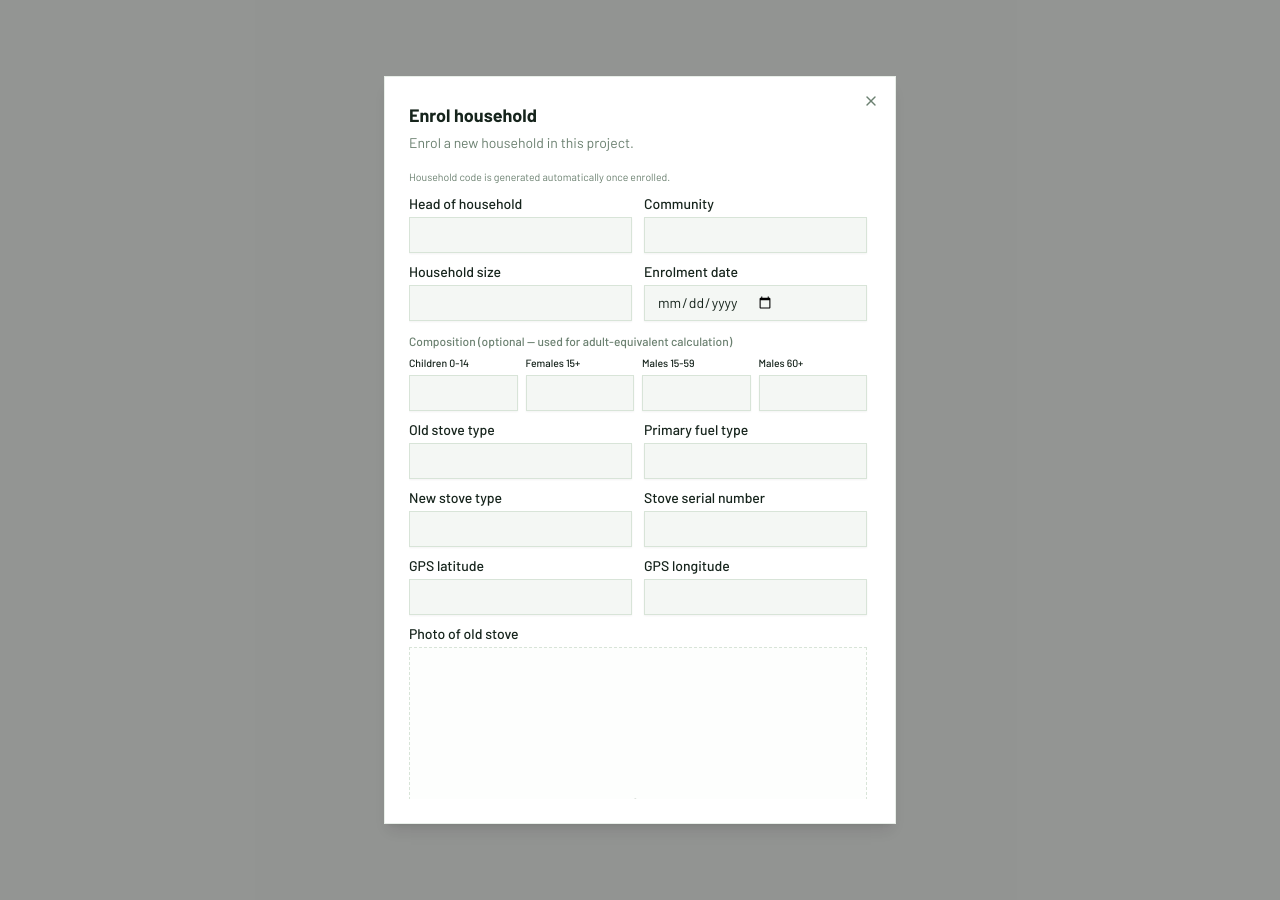
Test: CreateHouseholdDialog › submits with numeric fields converted and empty optional fields omitted
The image size is (1280, 900).
Type "Ojo" into the field labelled "Community" at {"x": 756, "y": 235}, box 644,217 -> 867,253
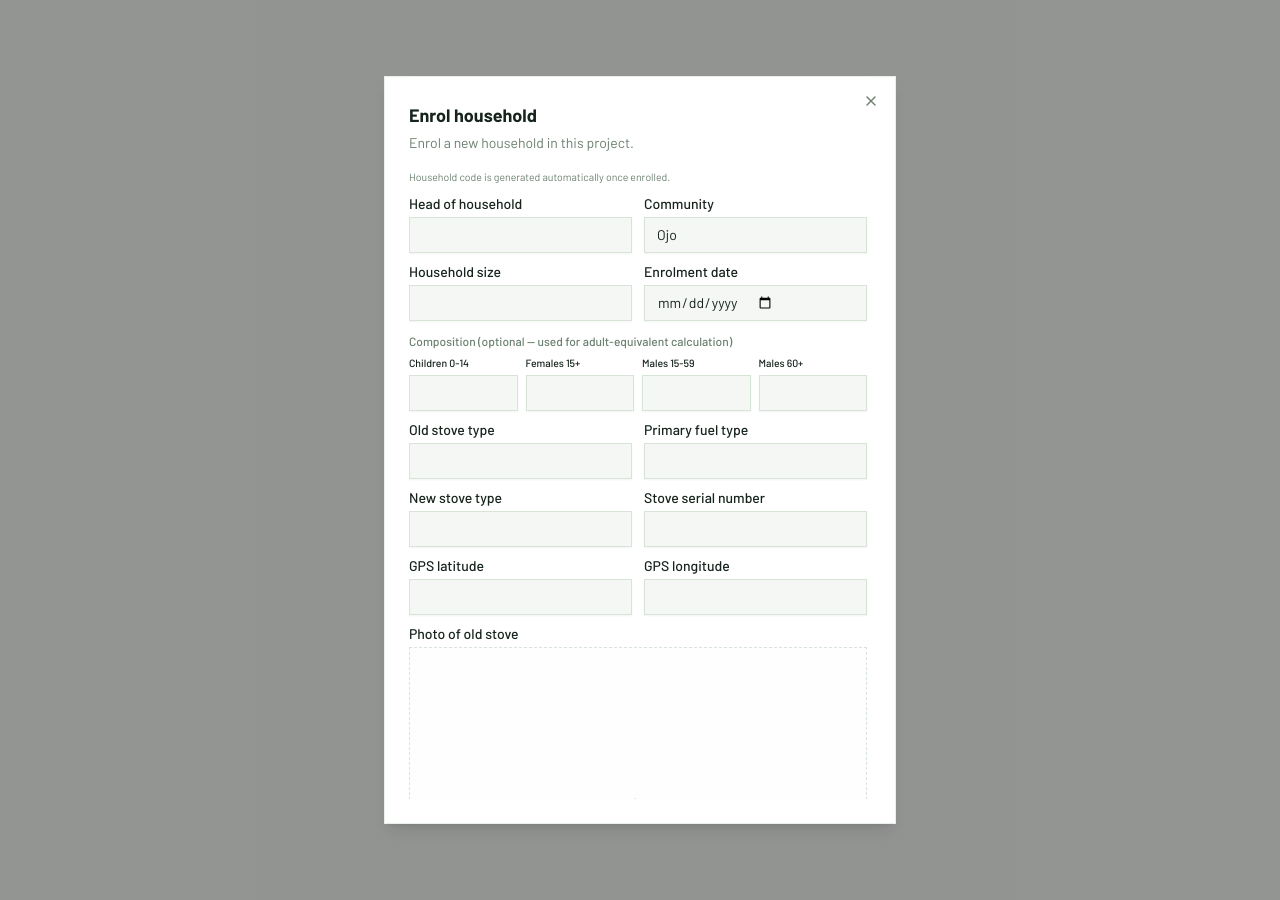
Type "4" into the number field labelled "Household size" at {"x": 520, "y": 303}, box 409,285 -> 632,321
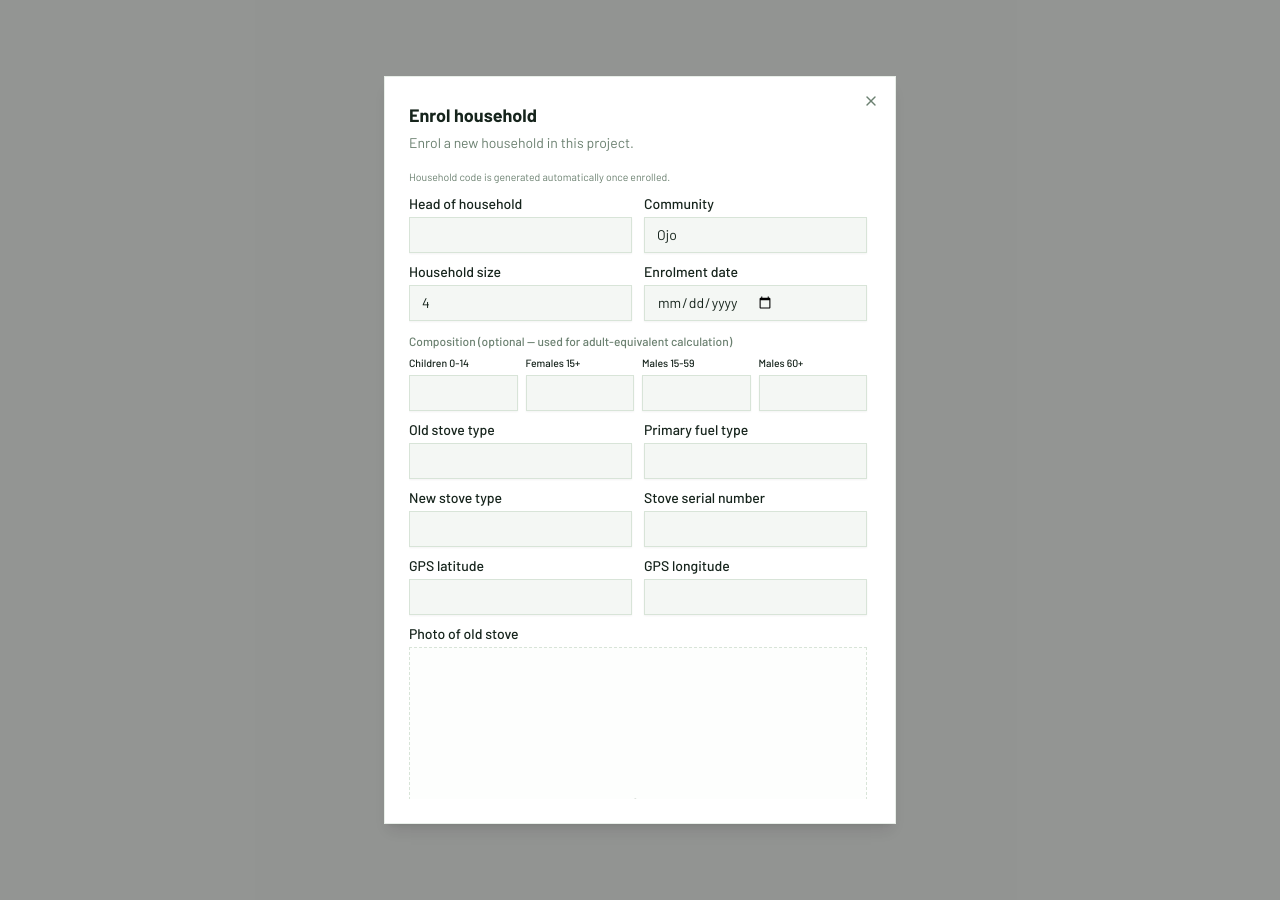
Type "2026-01-15" into the date field labelled "Enrolment date" at {"x": 756, "y": 303}, box 644,285 -> 867,321
(page scrolled)
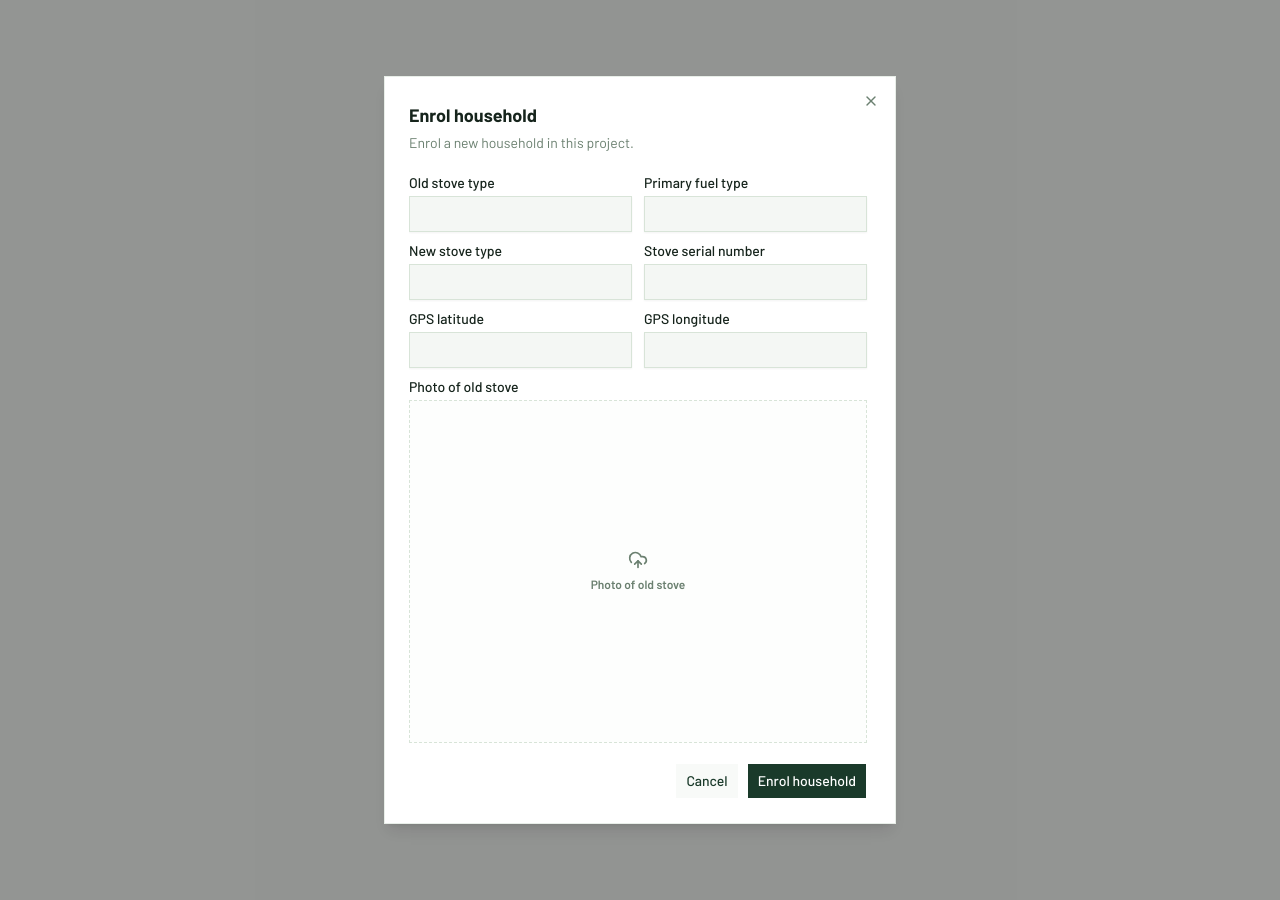
Click the button "Enrol household" at {"x": 807, "y": 781}, box 747,763 -> 867,799
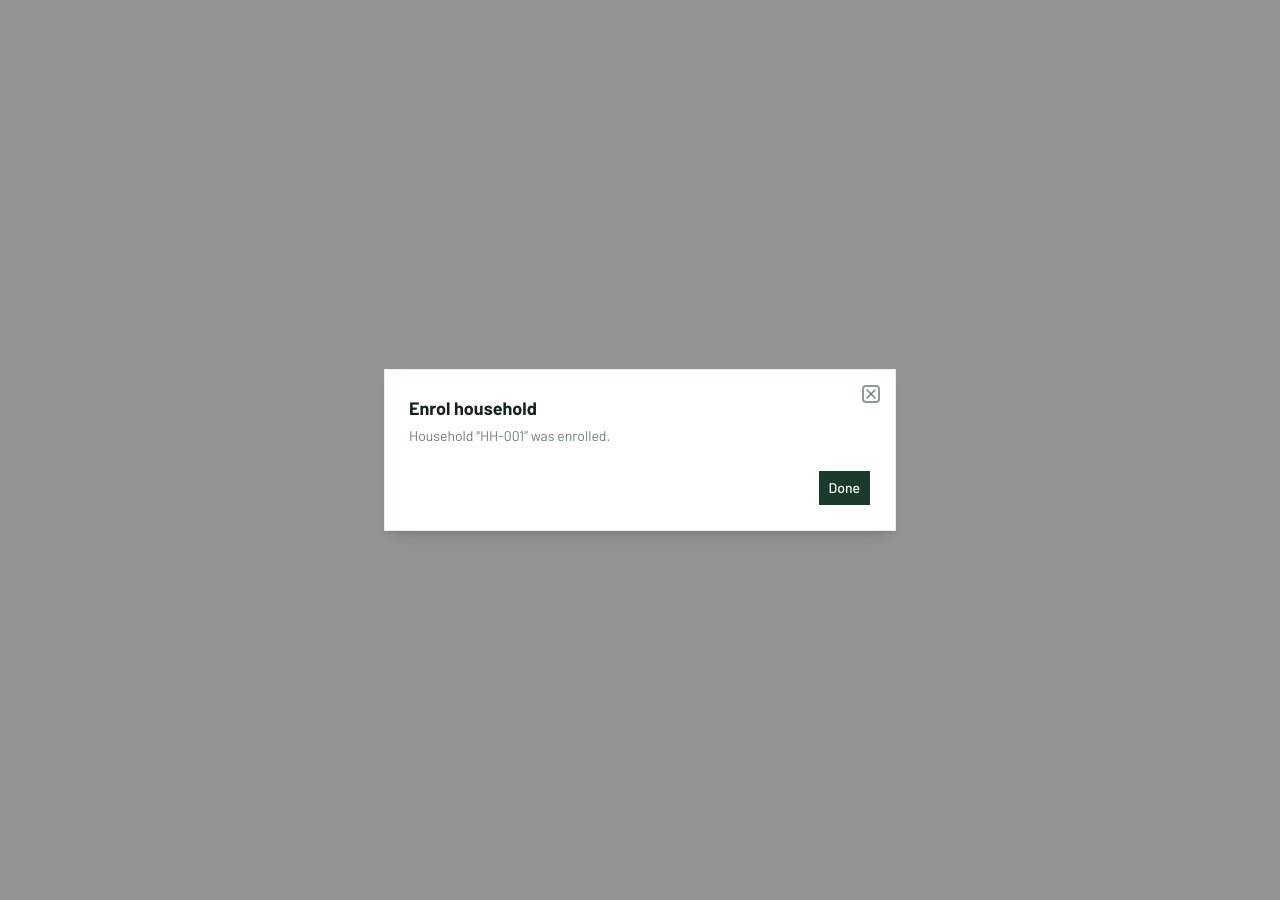
Now the text "Household “HH-001” was enrolled." is shown, box 409,427 -> 610,444
